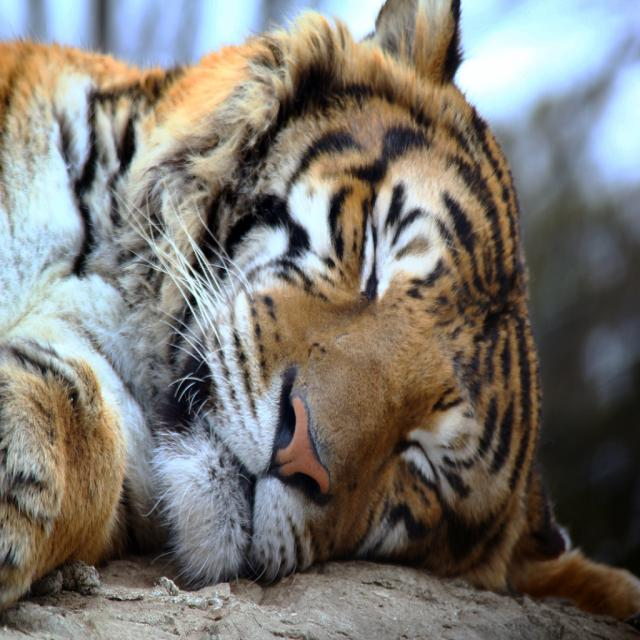Tiger: (0, 0, 640, 631)
